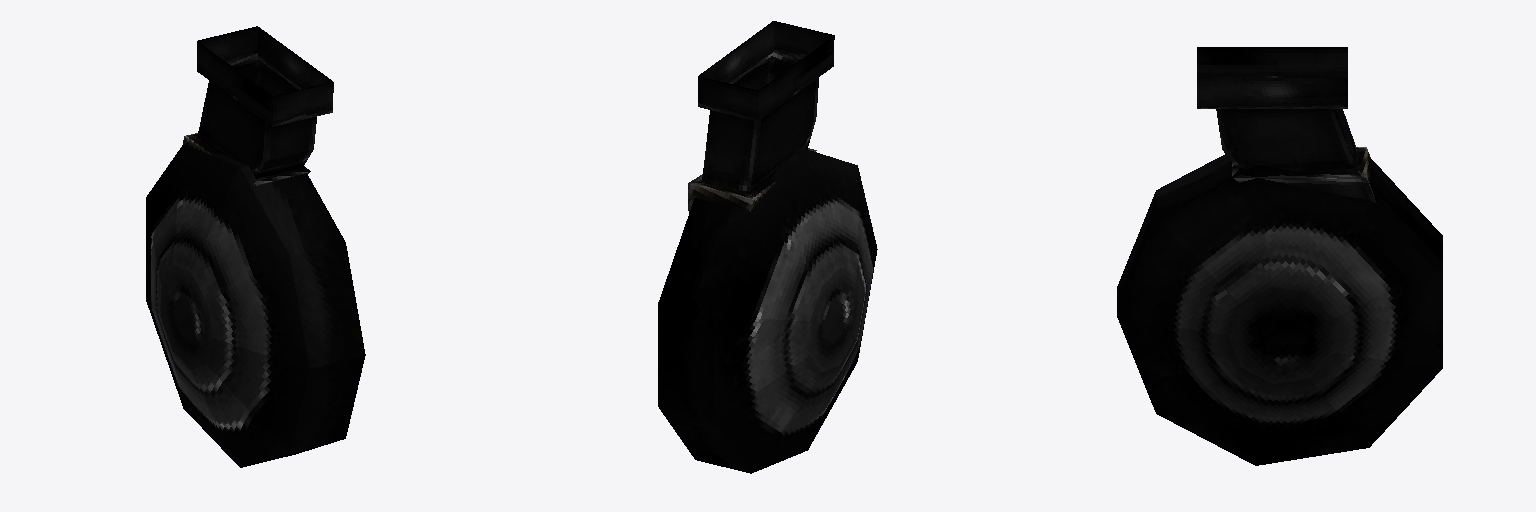
3 views of the same model, side by side, from view 1: azimuth 30°, elevation 25°; view 2: azimuth 150°, elevation 25°; view 3: azimuth 270°, elevation 25° (orthographic).
Visible parts, largest first — view 1: final_model_; view 2: final_model_; view 3: final_model_.
Part boxes in pixels (x1,y1,x2,y2): final_model_: (146,26,365,467); final_model_: (658,21,877,473); final_model_: (1117,47,1442,465).
Bounding box in the file's own units: 3.43 × 9.38 × 7.07.
1 materials, 1 textured.